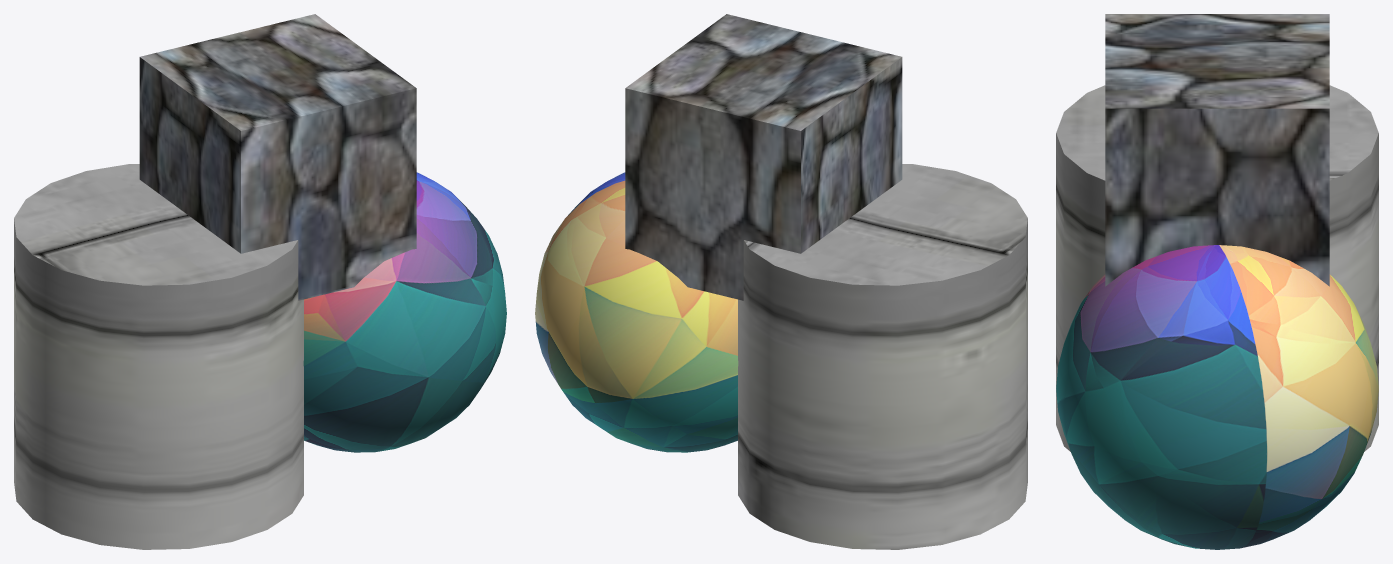
File: Multi_Color_Objs_Textured.fbx
The picture shows the model from 3 angles, left to right: view 1: azimuth 30°, elevation 25°; view 2: azimuth 150°, elevation 25°; view 3: azimuth 270°, elevation 25°; orthographic projection. The views are drawn at different scales.
Visible parts, largest first — view 1: polySurface3, polySurface1, polySurface2; view 2: polySurface3, polySurface1, polySurface2; view 3: polySurface2, polySurface1, polySurface3.
Boxes of the visible parts, x1=… form: polySurface3: x1=14, y1=164, x2=303, y2=549; polySurface1: x1=139, y1=14, x2=416, y2=300; polySurface2: x1=303, y1=172, x2=506, y2=452; polySurface3: x1=738, y1=164, x2=1027, y2=549; polySurface1: x1=625, y1=14, x2=902, y2=300; polySurface2: x1=535, y1=172, x2=738, y2=452; polySurface2: x1=1056, y1=245, x2=1378, y2=549; polySurface1: x1=1105, y1=14, x2=1329, y2=286; polySurface3: x1=1056, y1=85, x2=1378, y2=451.
Size of the model in its own units: 3.61 by 2.93 by 2.
Materials: 3 (3 with a texture image).
